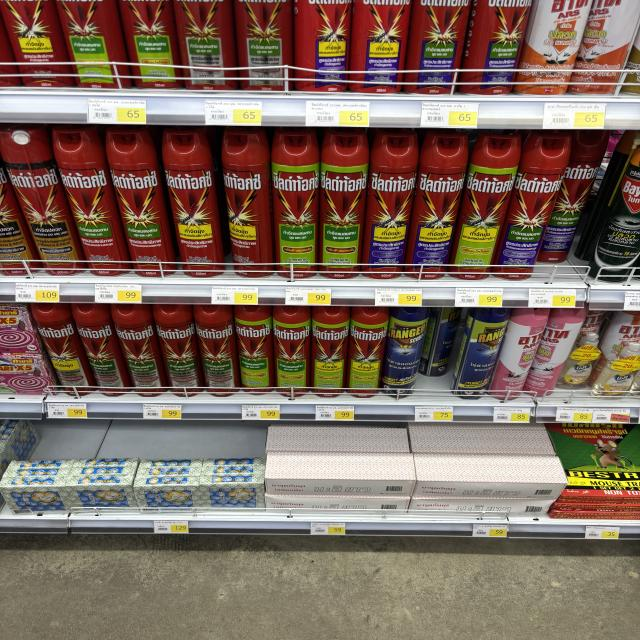empty_shelf: (413, 312, 473, 406)
